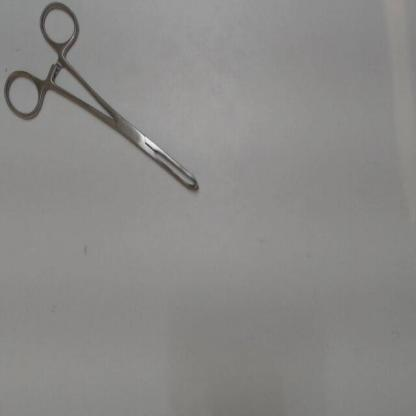Allis Tissue Forceps: (0, 0, 207, 203)
